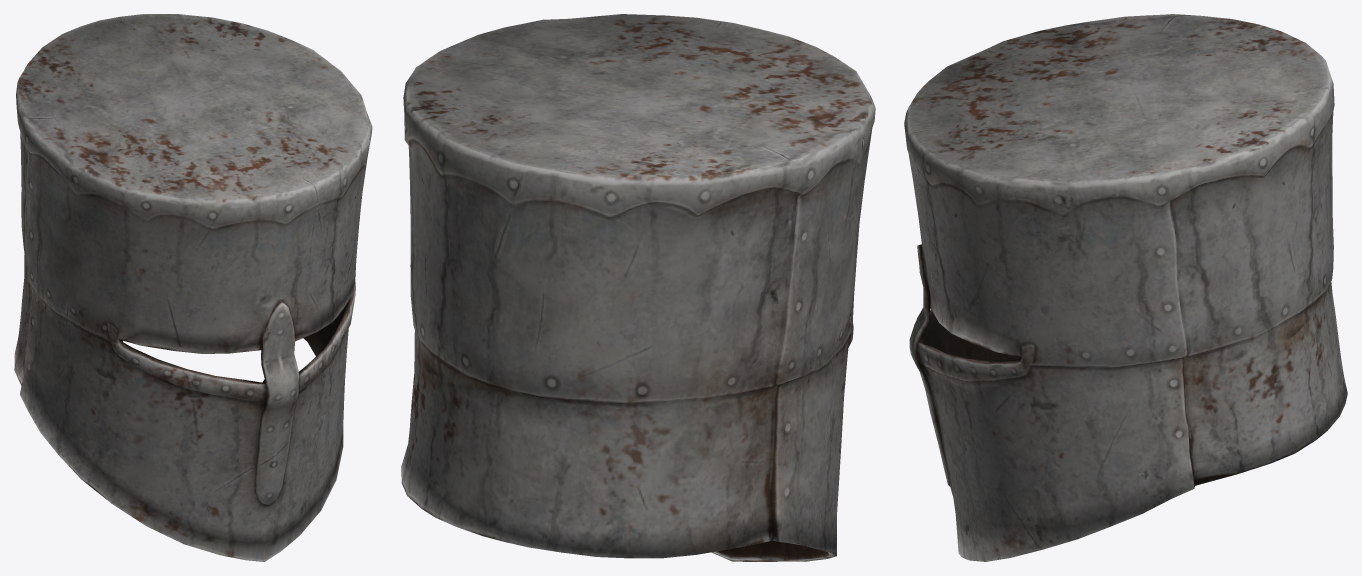
File: HeavyHelmet01.fbx
The picture shows the model from 3 angles, left to right: view 1: azimuth 30°, elevation 25°; view 2: azimuth 150°, elevation 25°; view 3: azimuth 270°, elevation 25°; orthographic projection. The views are drawn at different scales.
Visible parts, largest first — view 1: Helmet_01.002; view 2: Helmet_01.002; view 3: Helmet_01.002.
Part boxes in pixels (x1,y1,x2,y2): Helmet_01.002: [14, 14, 372, 561]; Helmet_01.002: [401, 14, 875, 561]; Helmet_01.002: [904, 14, 1347, 561].
Size of the model in its own units: 22.51 by 29.97 by 25.37.
